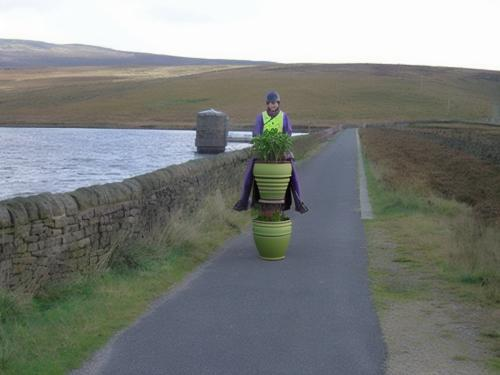person: (237, 94, 311, 212)
person/foot: (232, 201, 248, 211), (295, 203, 307, 215)
person/head: (265, 91, 280, 111)
pottedplant: (252, 131, 291, 263)
